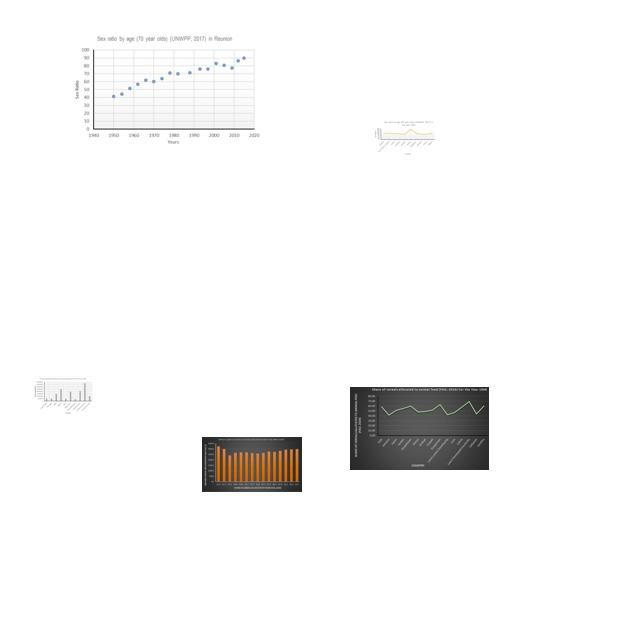Graph: (70, 31, 263, 146), (350, 387, 489, 470), (202, 437, 302, 492), (33, 376, 93, 415), (373, 120, 436, 156)
